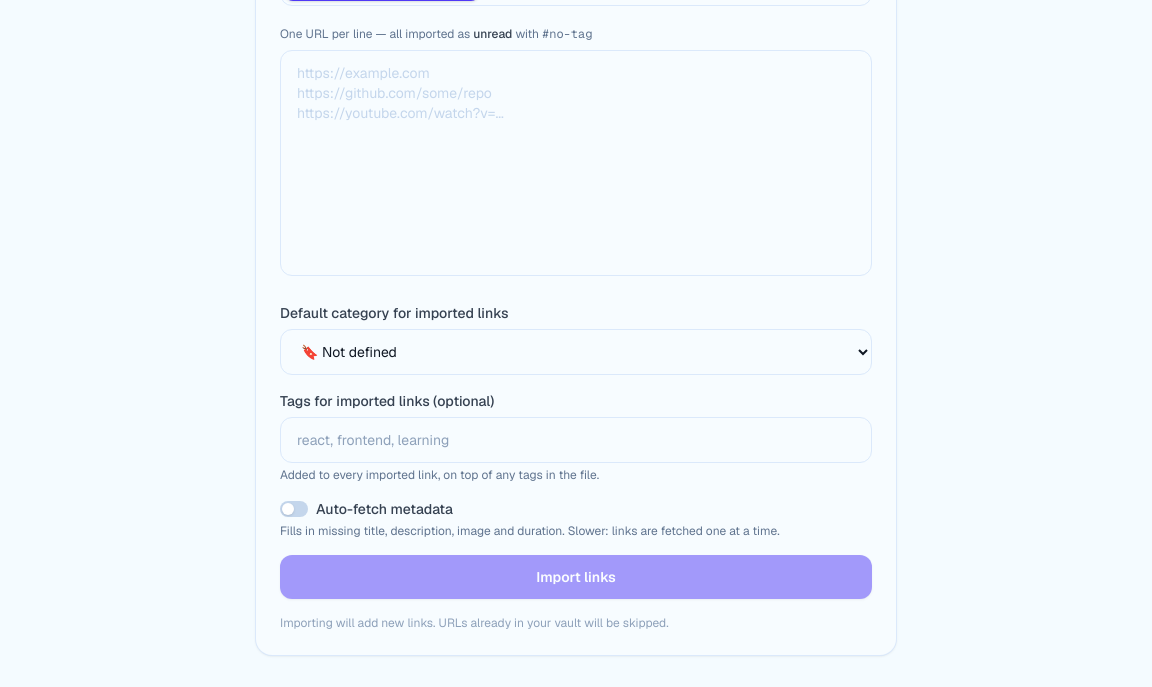
Test: ImportExportClient › auto-fetch metadata switch › shows the without-metadata count in the progress modal
(page scrolled)
Click the switch labelled "Auto-fetch metadata". click: click(366, 509)
box: [280,499,453,519]
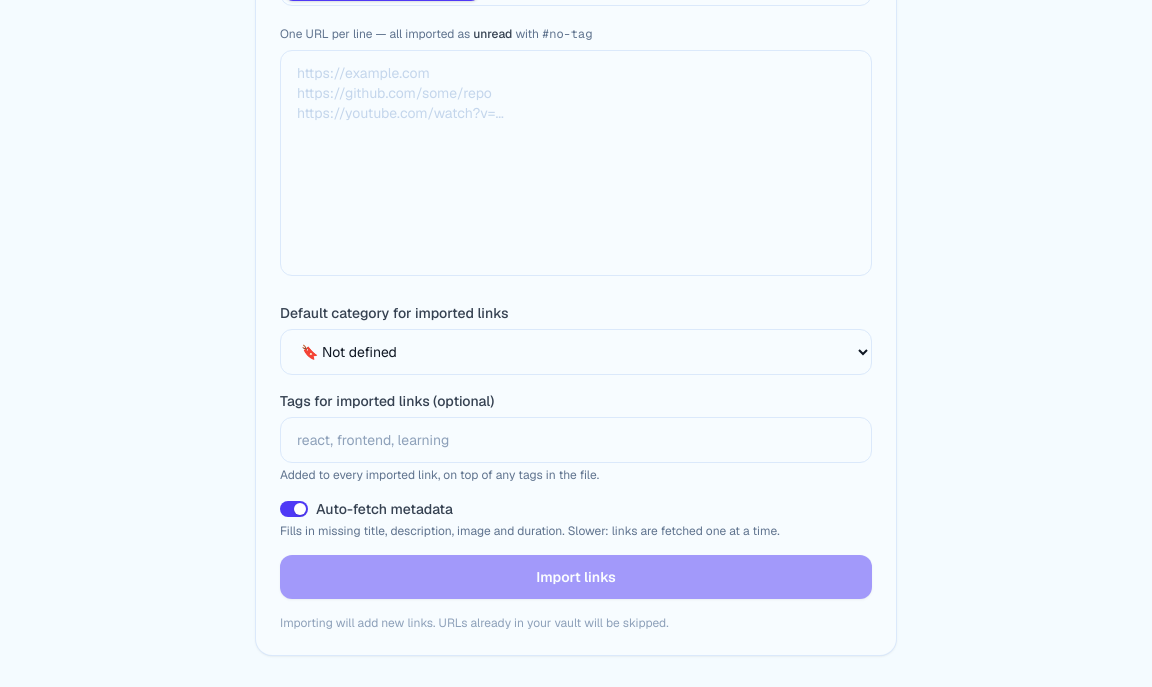
Replace the text in the text box with "https://example.com". click: (576, 163)
box: [280,50,872,276]
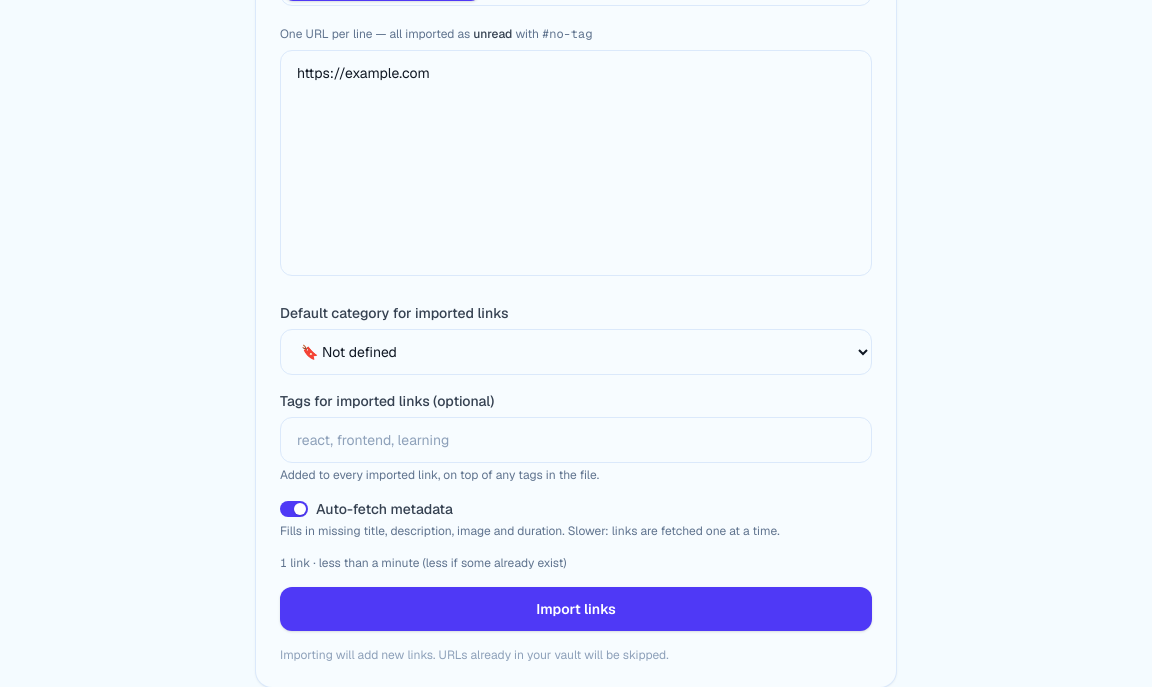
Click the button "Import links". click: click(576, 609)
box: [280,587,872,631]
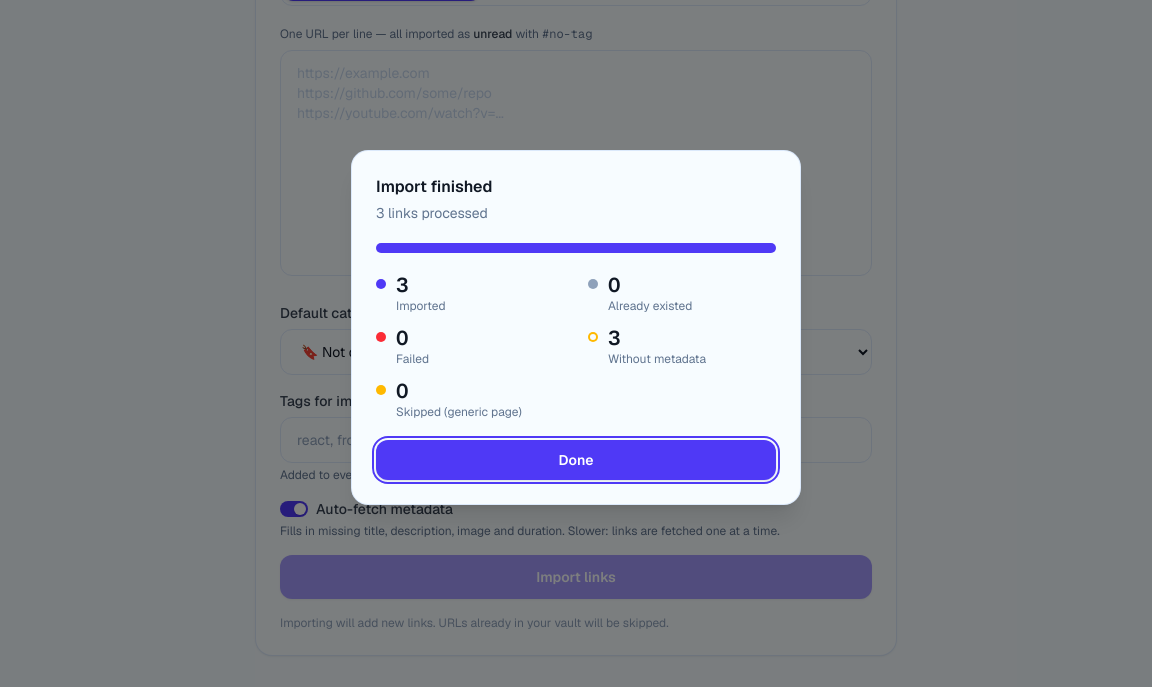
Result: the dialog shows "Import finished" at [376,176,492,196]
